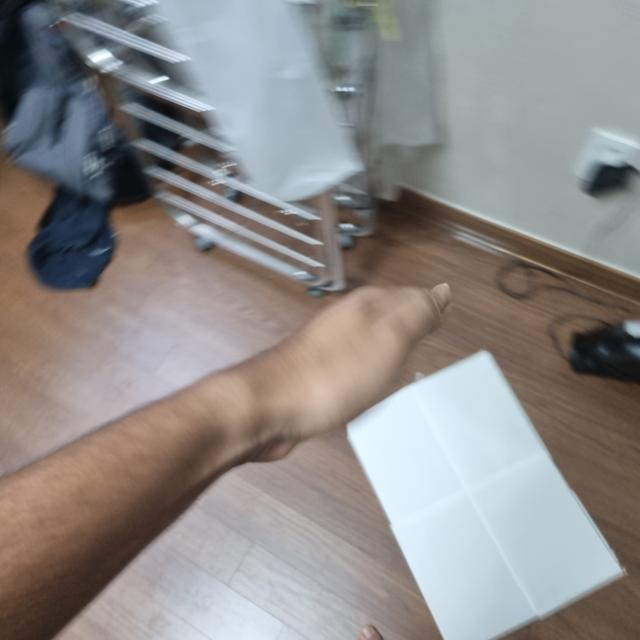Paper: (237, 278, 436, 438)
